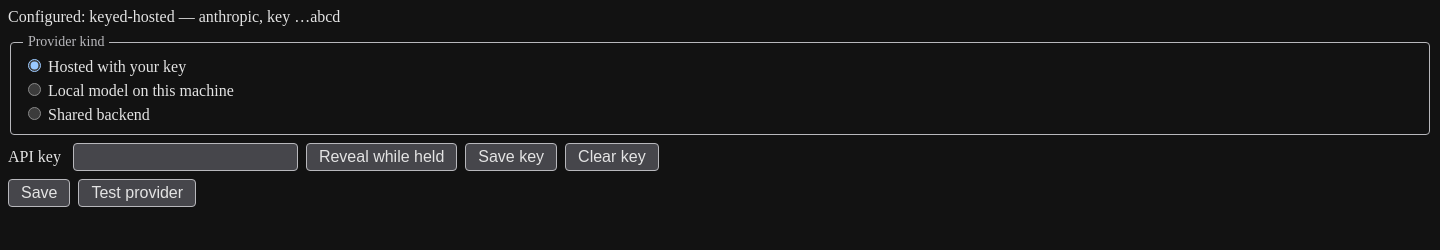
test-provider (10.10) › reports reachable as configured without echoing any credential
The image size is (1440, 250).
Click the button "Test provider" at (137, 193), box [78,179,196,207]
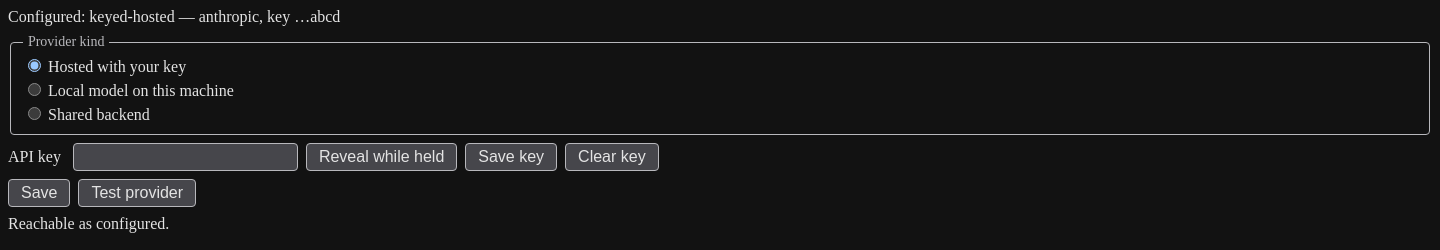
Expected: the text "Reachable as configured." is shown, [8,215,169,232]
